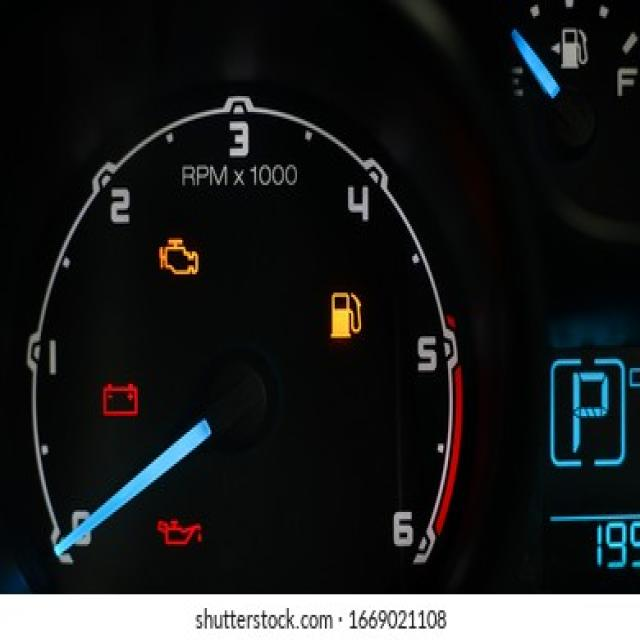Charging System Issue: (99, 377, 141, 421)
Check Engine: (154, 233, 202, 281)
Low Engine Oil Warning Light: (154, 516, 205, 551)
